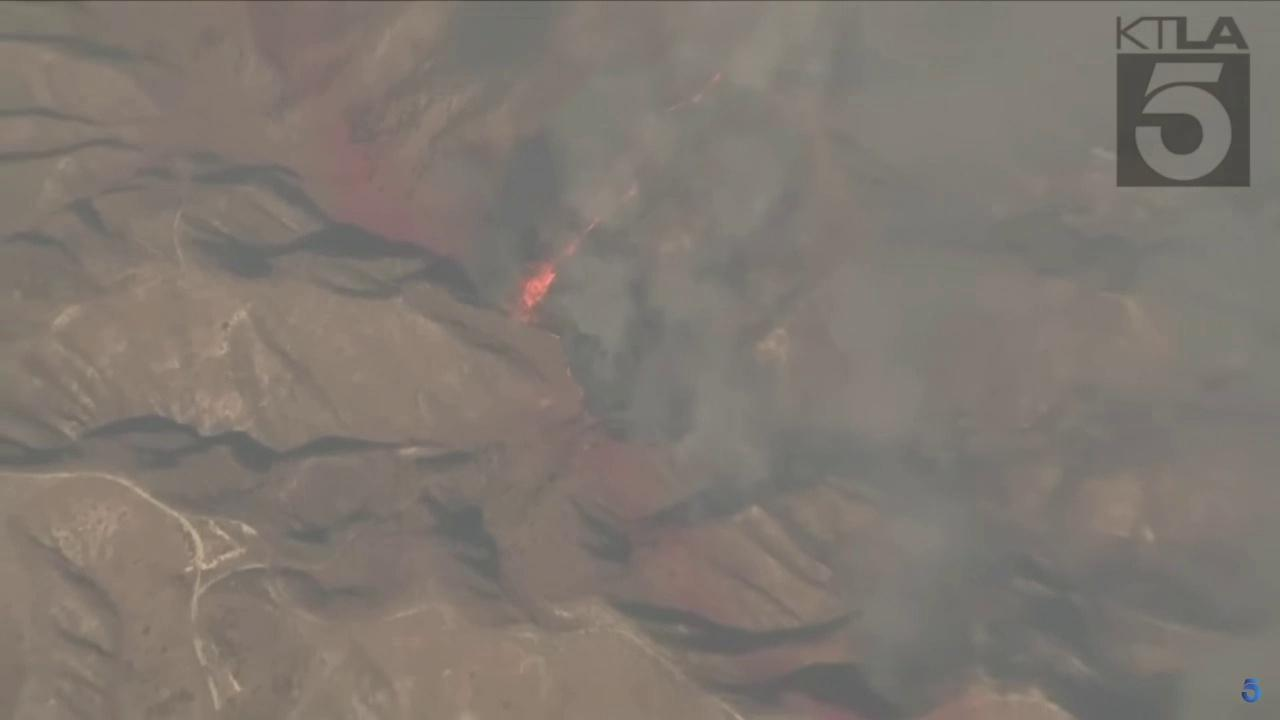fire: (509, 257, 560, 328)
smoke: (500, 0, 1280, 720)
